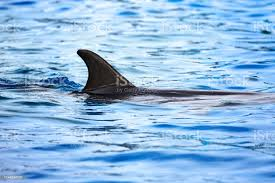fin: (27, 41, 269, 116)
